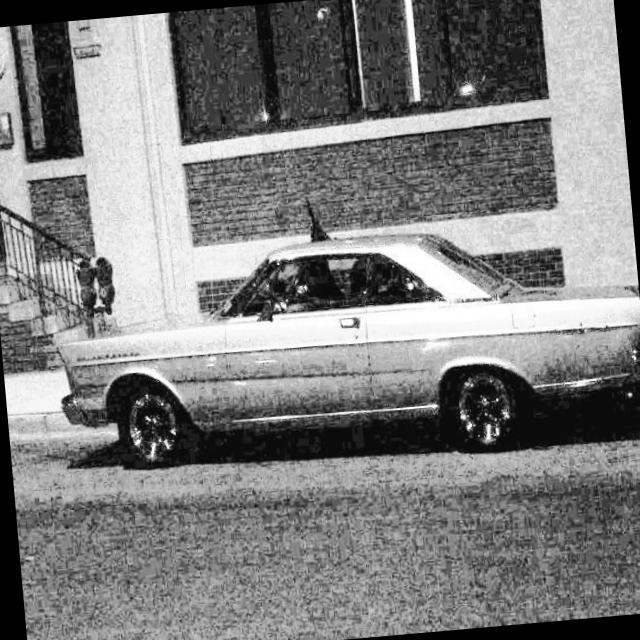Car: (53, 215, 640, 509)
